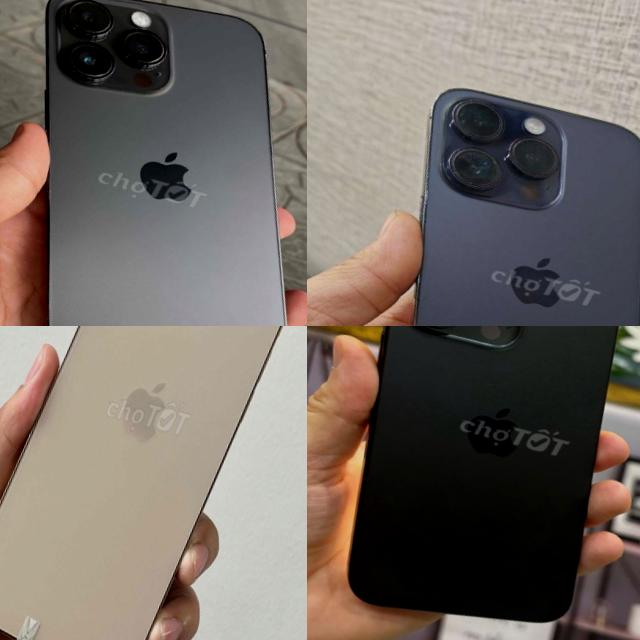gen_12_13: (0, 326, 307, 640)
gen_14: (0, 0, 307, 326), (324, 61, 640, 326)
gen_15: (307, 326, 640, 640)
